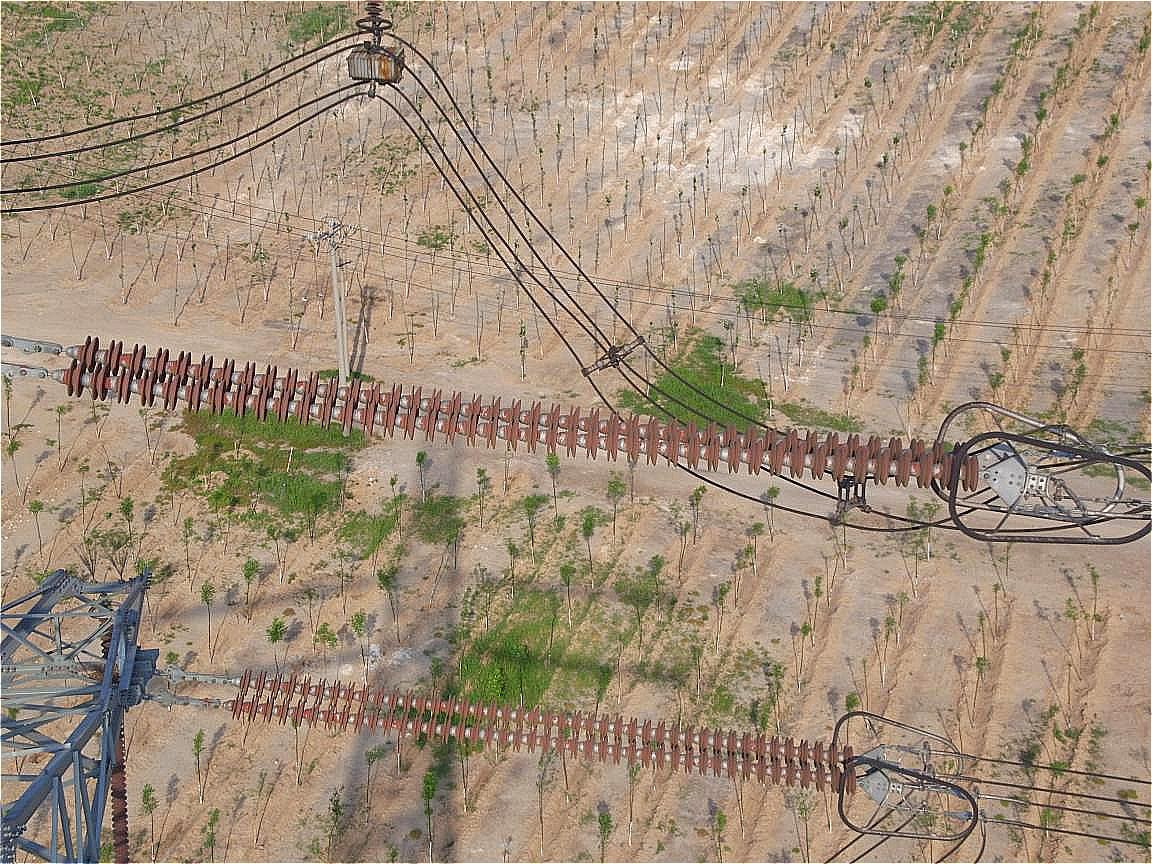insultor2: (44, 328, 997, 513), (186, 661, 870, 803)
